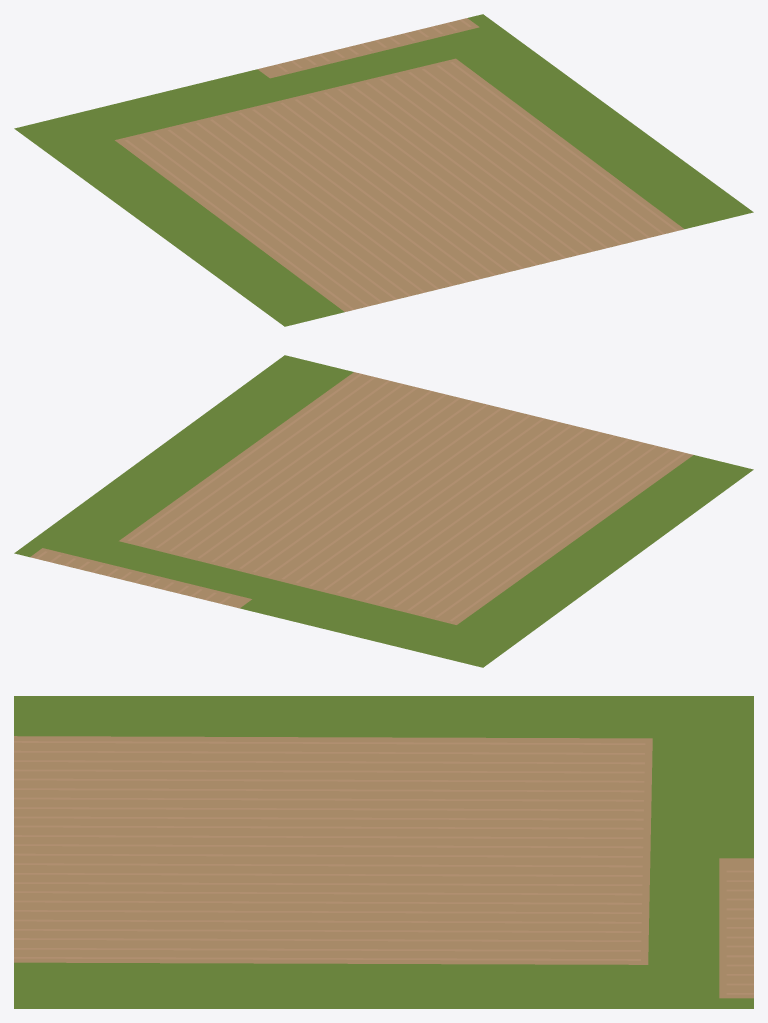
The model's file is crossing-10-1.glb.
3 renders of one model, top to bottom at view 1: azimuth 30°, elevation 25°; view 2: azimuth 150°, elevation 25°; view 3: azimuth 270°, elevation 25°, orthographic. The views are drawn at different scales.
Parts seen in each view (by area): view 1: crossing-10-1; view 2: crossing-10-1; view 3: crossing-10-1.
Boxes of the visible parts, left/top/right/bottom form: crossing-10-1: left=14, top=14, right=753, bottom=326; crossing-10-1: left=14, top=355, right=753, bottom=667; crossing-10-1: left=14, top=696, right=753, bottom=1008.
Size of the model in its own units: 100 by 0.0064 by 100.
